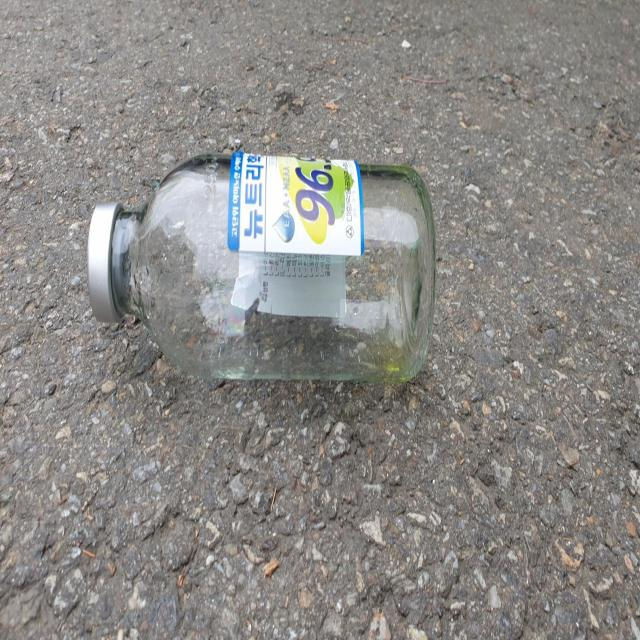glass: (87, 150, 436, 381)
